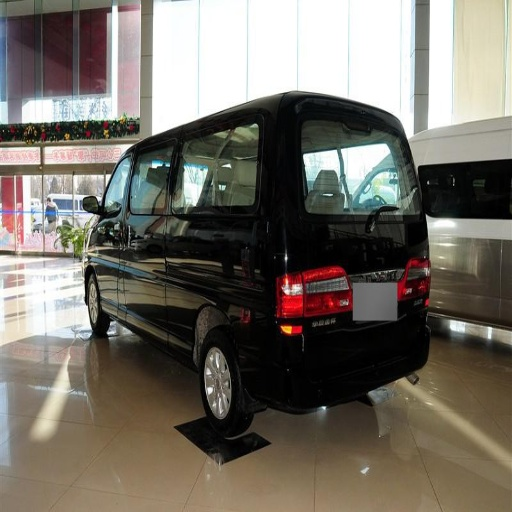back_bumper: (249, 317, 424, 409)
back_glass: (275, 126, 401, 212)
back_left_door: (297, 99, 366, 137)
back_left_light: (275, 273, 306, 329)
back_right_door: (207, 113, 256, 186)
trunk: (309, 268, 403, 338), (179, 287, 247, 339), (140, 210, 187, 249)
